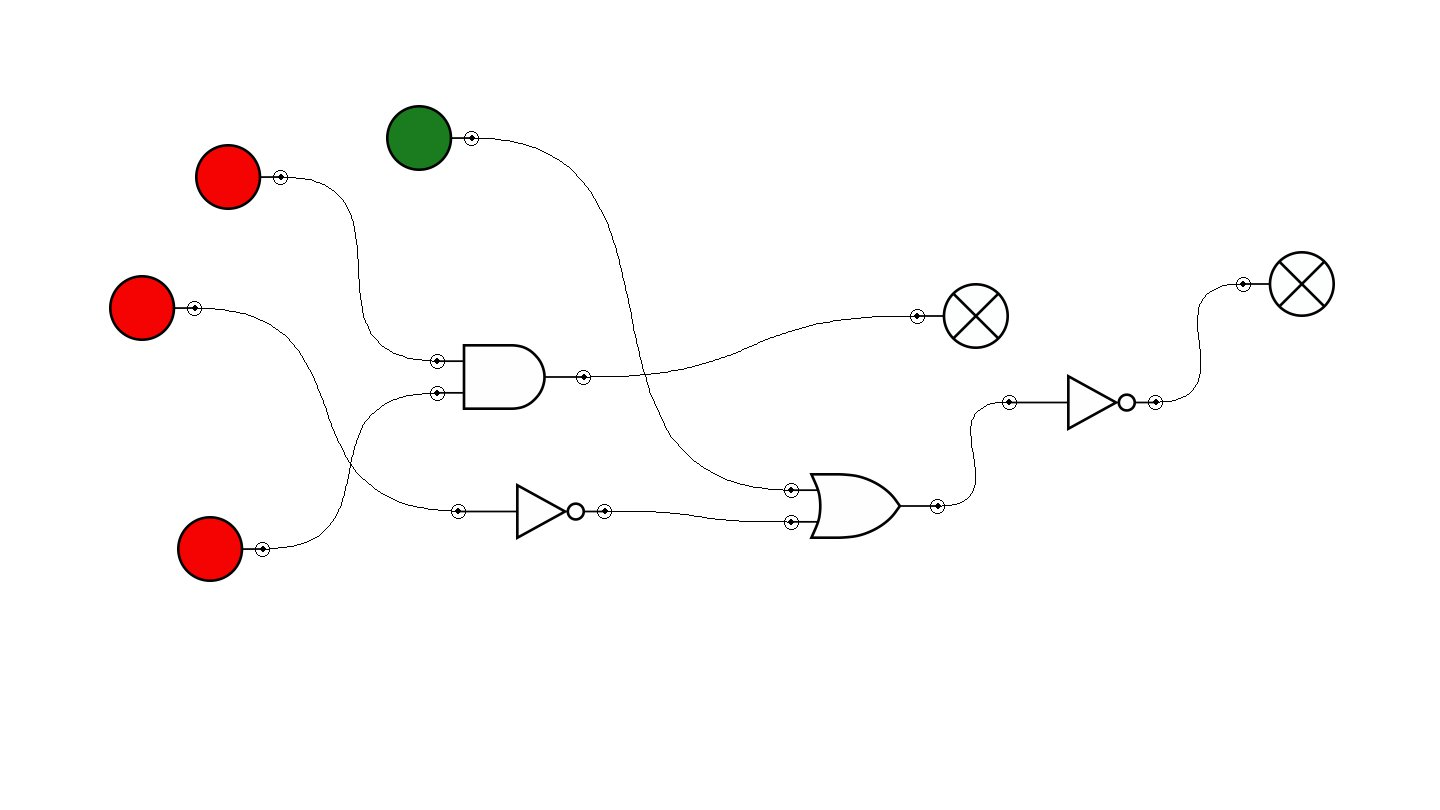and: (430, 344, 591, 410)
bulb: (910, 283, 1009, 349), (1236, 251, 1335, 317)
not: (451, 483, 612, 540), (1002, 374, 1163, 431)
or: (784, 473, 945, 539)
switch_False: (177, 516, 270, 582), (109, 275, 202, 341), (195, 144, 288, 210)
switch_True: (386, 105, 479, 171)
